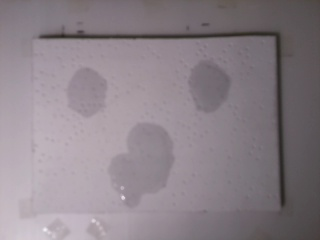Water_detected: (114, 130, 170, 202), (192, 70, 223, 109), (75, 80, 106, 114)
